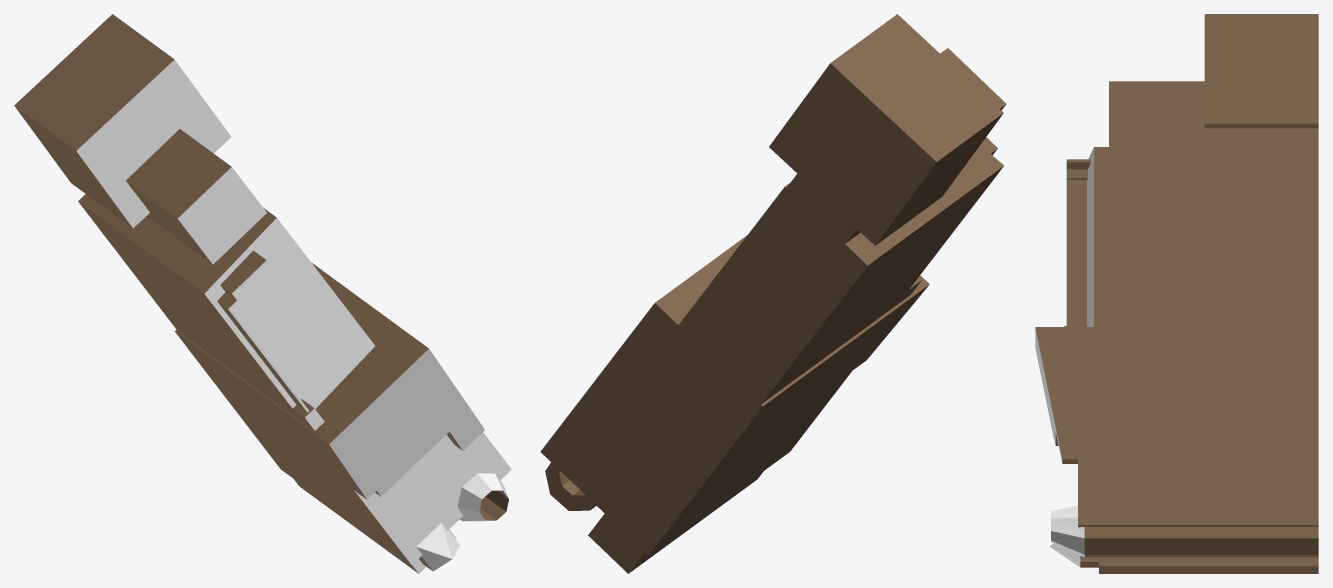
3 renders of one model, left to right at view 1: azimuth 30°, elevation 25°; view 2: azimuth 150°, elevation 25°; view 3: azimuth 270°, elevation 25°, orthographic. The views are drawn at different scales.
Parts seen in each view (by area): view 1: City_PC-08752; view 2: City_PC-08752; view 3: City_PC-08752.
Part boxes in pixels (bbox=[...]): City_PC-08752: bbox=[14, 14, 511, 573]; City_PC-08752: bbox=[540, 14, 1006, 573]; City_PC-08752: bbox=[1035, 14, 1318, 573].
Bounding box in the file's own units: 2296 × 3100 × 1673.
